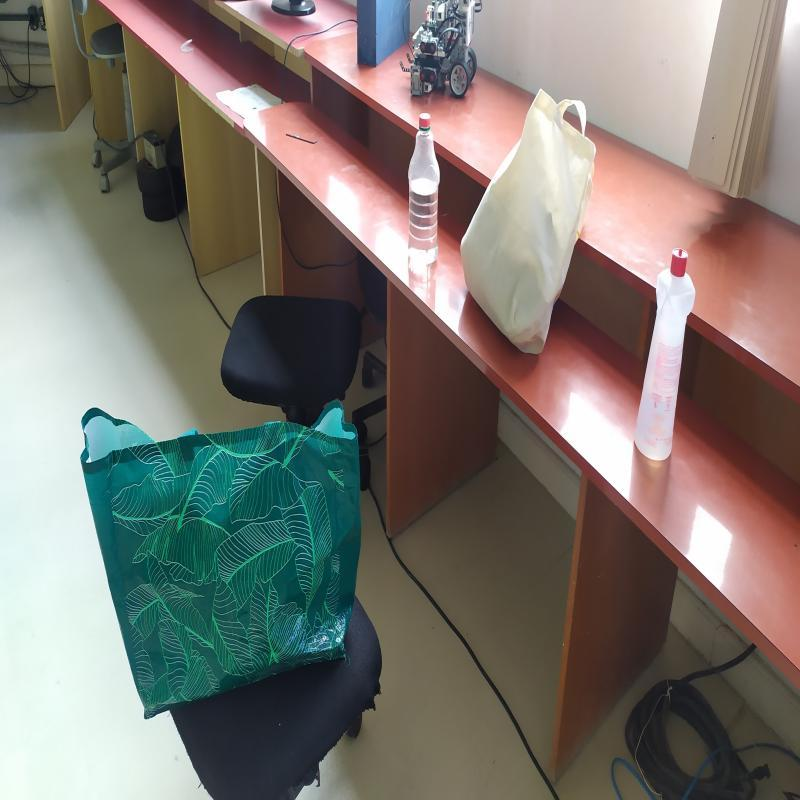Bag: (74, 403, 360, 718), (461, 87, 596, 354)
